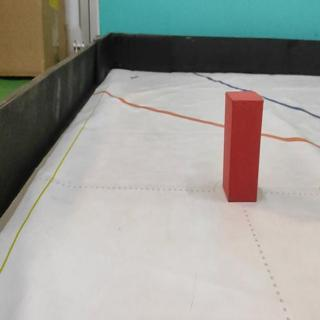redbox: (223, 90, 263, 203)
